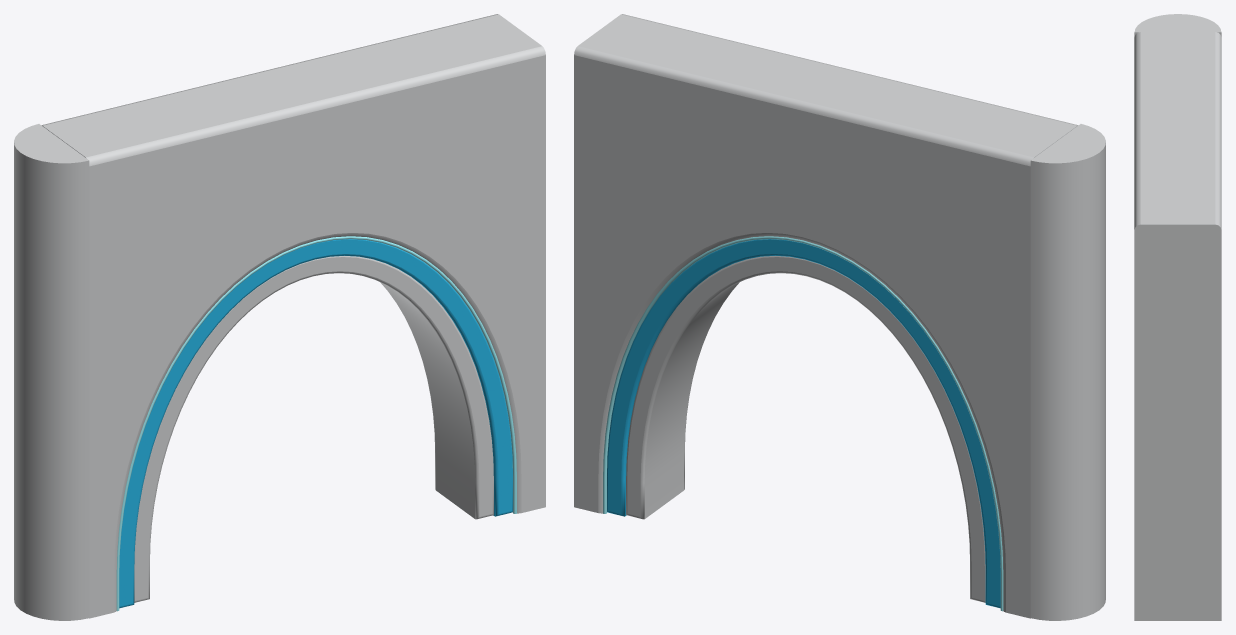
The model's file is Arch_D09_LayeredShell.fbx.
3 views of the same model, side by side, from view 1: azimuth 30°, elevation 25°; view 2: azimuth 150°, elevation 25°; view 3: azimuth 270°, elevation 25° (orthographic). The views are drawn at different scales.
Parts seen in each view (by area): view 1: Arch_D09_LayeredShell; view 2: Arch_D09_LayeredShell; view 3: Arch_D09_LayeredShell.
Part boxes in pixels (box(x1,y1,x2,y2)): Arch_D09_LayeredShell: box(14, 14, 545, 620); Arch_D09_LayeredShell: box(574, 14, 1105, 620); Arch_D09_LayeredShell: box(1134, 14, 1221, 620).
Size of the model in its own units: 2.29 by 2.01 by 0.4.
